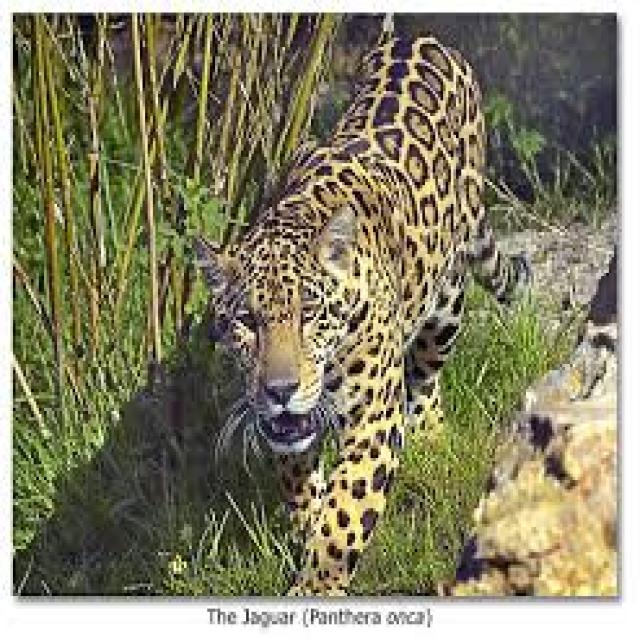Jaguar: (205, 28, 495, 599)
